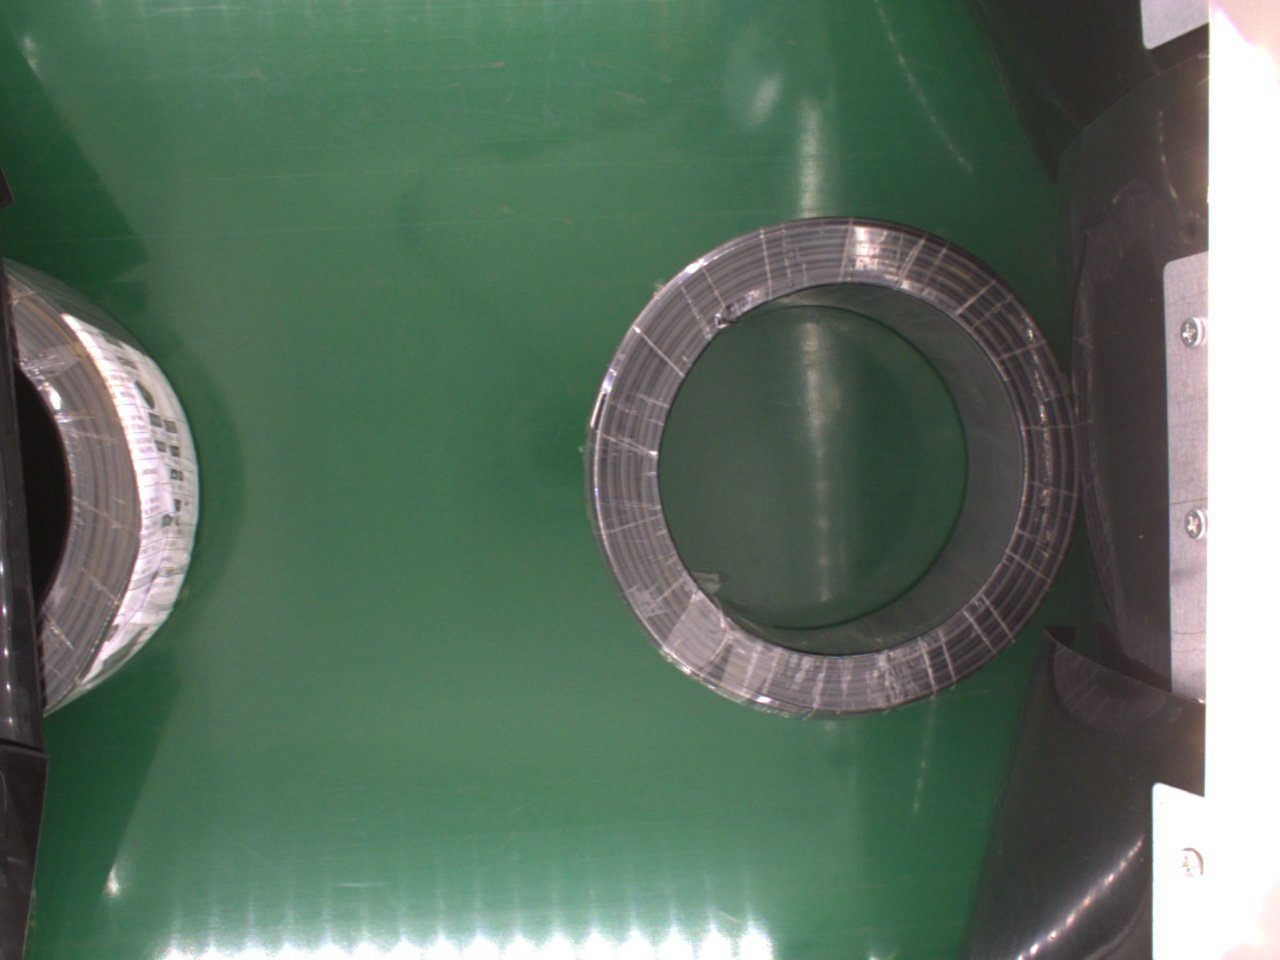black: (583, 216, 1077, 722), (7, 258, 202, 717)
